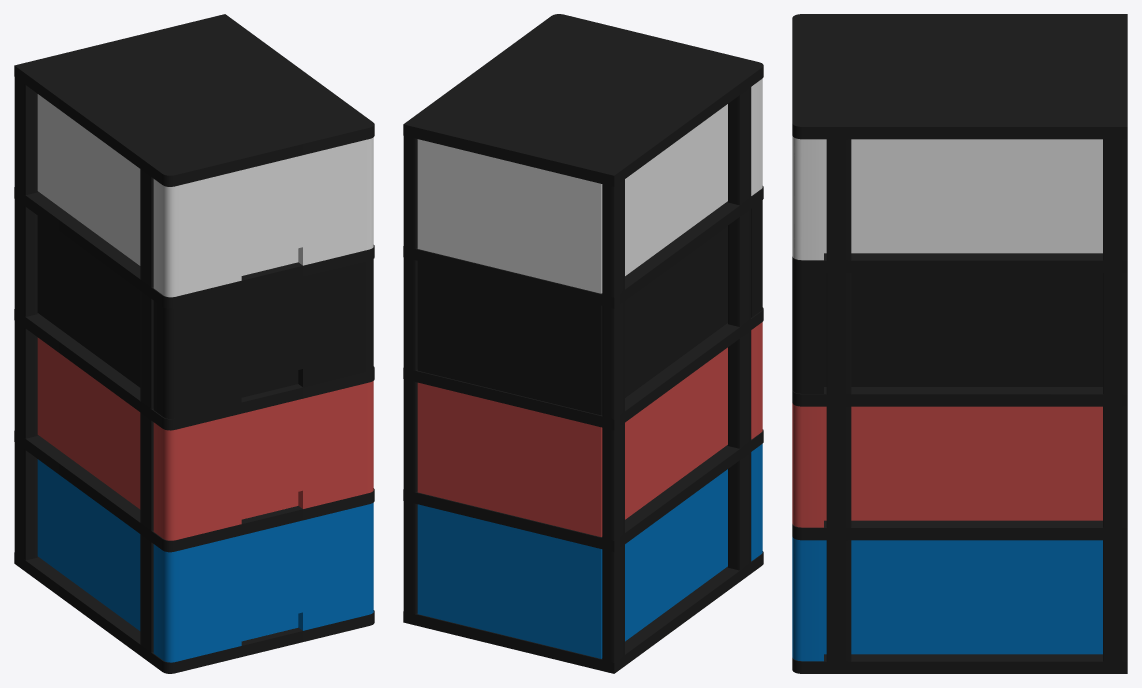
Rendered from Drawer22.fbx.
The picture shows the model from 3 angles, left to right: view 1: azimuth 30°, elevation 25°; view 2: azimuth 150°, elevation 25°; view 3: azimuth 270°, elevation 25°; orthographic projection. The views are drawn at different scales.
Parts seen in each view (by area): view 1: Drawer22_Body, Drawer22_4, Drawer22_3, Drawer22_1, Drawer22_2; view 2: Drawer22_Body, Drawer22_1, Drawer22_2, Drawer22_4, Drawer22_3; view 3: Drawer22_Body, Drawer22_3, Drawer22_1, Drawer22_4, Drawer22_2.
Boxes of the visible parts, left/top/right/bottom form: Drawer22_Body: left=14, top=14, right=374, bottom=673; Drawer22_4: left=37, top=459, right=373, bottom=662; Drawer22_3: left=37, top=337, right=373, bottom=540; Drawer22_1: left=37, top=94, right=373, bottom=297; Drawer22_2: left=37, top=216, right=373, bottom=418; Drawer22_Body: left=403, top=14, right=763, bottom=673; Drawer22_1: left=417, top=78, right=762, bottom=293; Drawer22_2: left=417, top=200, right=762, bottom=415; Drawer22_4: left=417, top=444, right=762, bottom=658; Drawer22_3: left=417, top=322, right=762, bottom=536; Drawer22_Body: left=792, top=14, right=1127, bottom=673; Drawer22_3: left=792, top=403, right=1102, bottom=527; Drawer22_1: left=792, top=136, right=1102, bottom=260; Drawer22_4: left=792, top=537, right=1102, bottom=661; Drawer22_2: left=792, top=269, right=1102, bottom=393.
Bounding box in the file's own units: 33.6 × 75.84 × 42.12.
